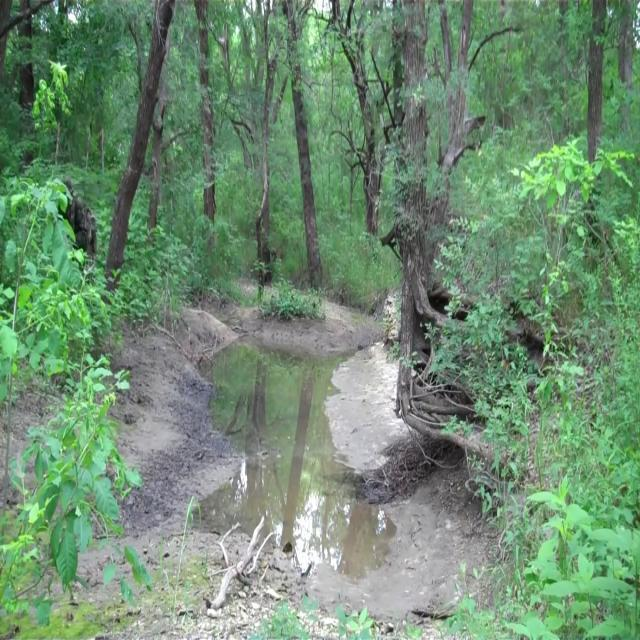MIL_Pax: (62, 177, 97, 258)
